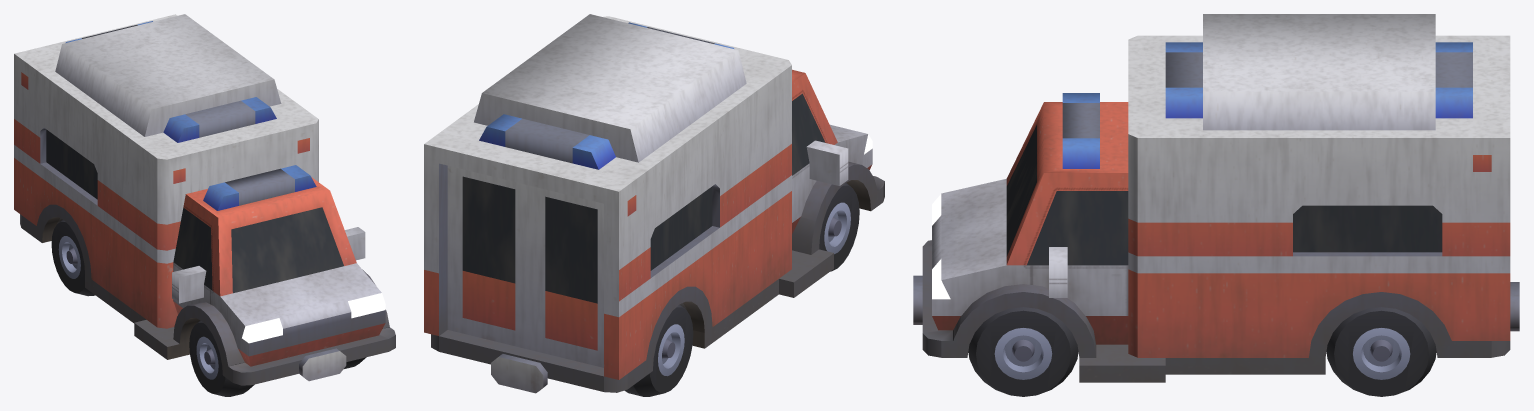
The model's file is ambulance-L2.glb.
3 views of the same model, side by side, from view 1: azimuth 30°, elevation 25°; view 2: azimuth 150°, elevation 25°; view 3: azimuth 270°, elevation 25° (orthographic). The views are drawn at different scales.
Parts seen in each view (by area): view 1: body, wheel-front-right, wheel-back-right; view 2: body, door-left, door-right, wheel-back-right, wheel-front-right; view 3: body, wheel-back-left, wheel-front-left.
Part boxes in pixels (left/top/right/bottom): body: left=14, top=14, right=395, bottom=385; wheel-front-right: left=189, top=320, right=254, bottom=396; wheel-back-right: left=51, top=219, right=95, bottom=296; body: left=424, top=14, right=884, bottom=393; door-left: left=447, top=165, right=530, bottom=349; door-right: left=530, top=186, right=603, bottom=367; wheel-back-right: left=624, top=304, right=693, bottom=396; wheel-front-right: left=819, top=183, right=859, bottom=271; body: left=913, top=14, right=1519, bottom=382; wheel-back-left: left=1326, top=307, right=1436, bottom=396; wheel-front-left: left=968, top=307, right=1078, bottom=396.
Size of the model in its own units: 1.5 by 1.8 by 3.25.
7 materials, 7 textured.
